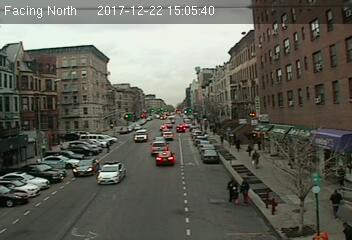car: (72, 159, 99, 175), (154, 150, 175, 164), (151, 140, 169, 155), (201, 148, 218, 162)
pedestrian: (328, 188, 342, 223), (251, 151, 261, 172)
police: (97, 161, 126, 186)
